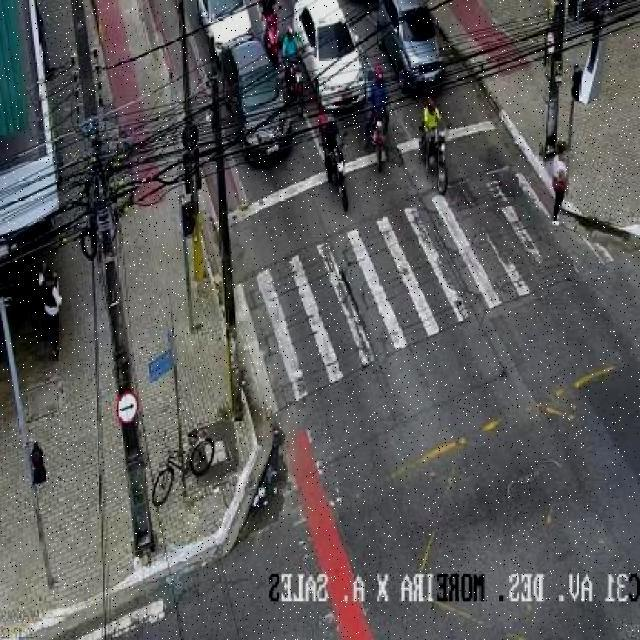Car: (220, 34, 292, 164), (294, 0, 368, 111), (376, 0, 448, 94), (193, 0, 258, 56)
Cycle: (150, 428, 216, 507), (316, 133, 352, 208), (421, 121, 453, 192)
